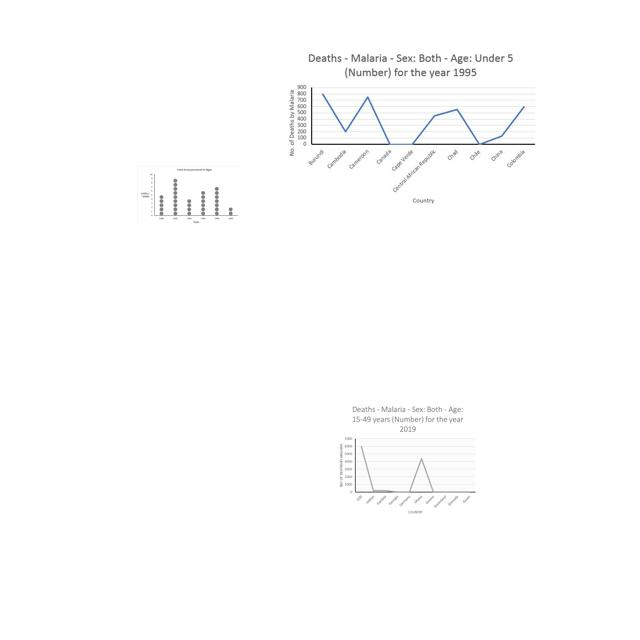Graph: (284, 48, 537, 205), (337, 404, 478, 515), (137, 166, 240, 226)
